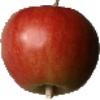apple: (2, 5, 100, 95)
